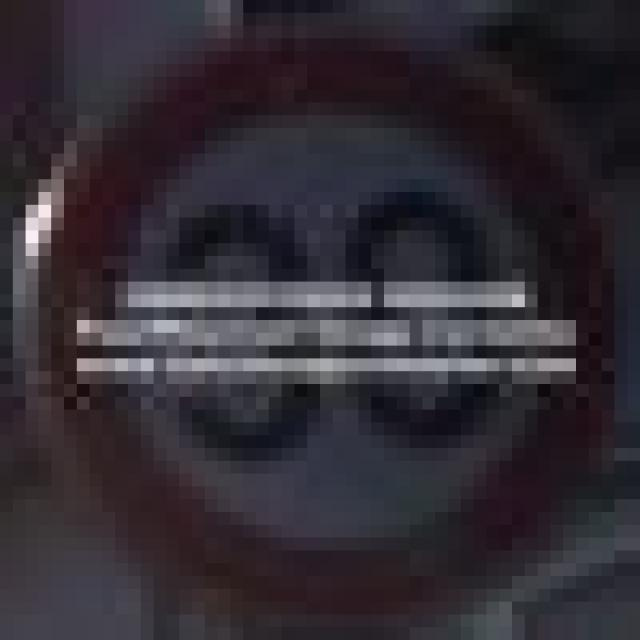SPEED_LIMIT_30: (13, 38, 589, 589)
